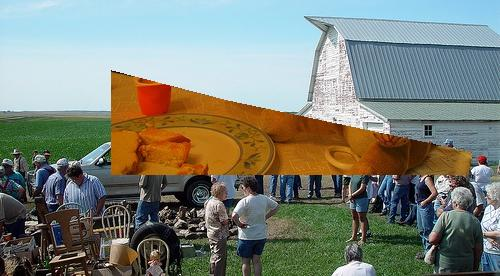tampered: (112, 71, 472, 175)
